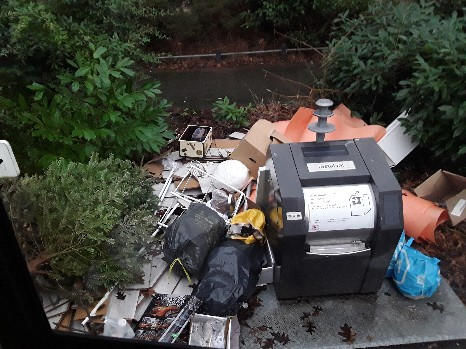Container: (275, 153, 391, 304)
GFT: (13, 160, 166, 266)
Papier: (421, 168, 466, 227), (240, 120, 277, 174)
Rest: (90, 289, 251, 348), (162, 196, 223, 268), (171, 133, 222, 209), (210, 167, 271, 228), (208, 234, 252, 318), (365, 103, 425, 157), (389, 248, 448, 298), (252, 109, 367, 133), (403, 192, 434, 233)
